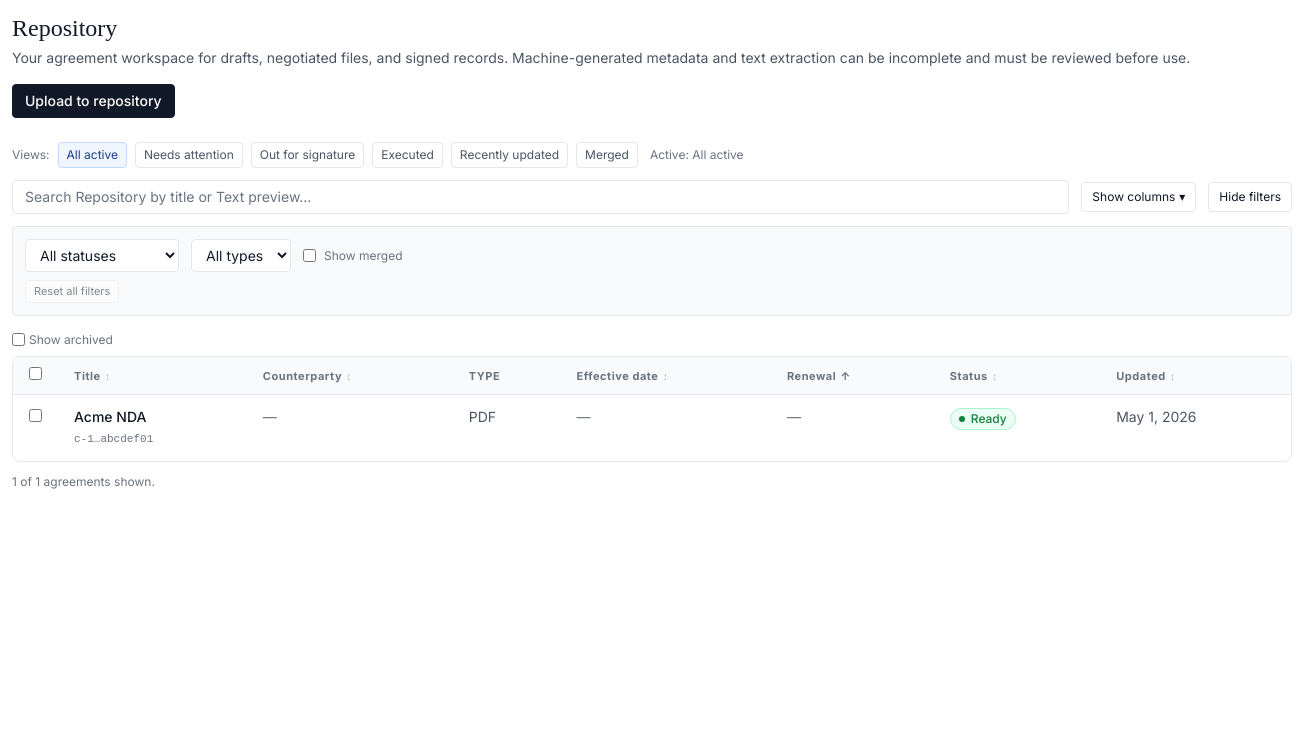
ContractsPage (Repository list) › manually changing status away from the active preset switches to Custom view
The image size is (1304, 732).
# Pick a preset first so we have a known active view.
Click the button with test id "repository-view-executed". click: coordinates (408, 155)
box: [372,142,443,168]
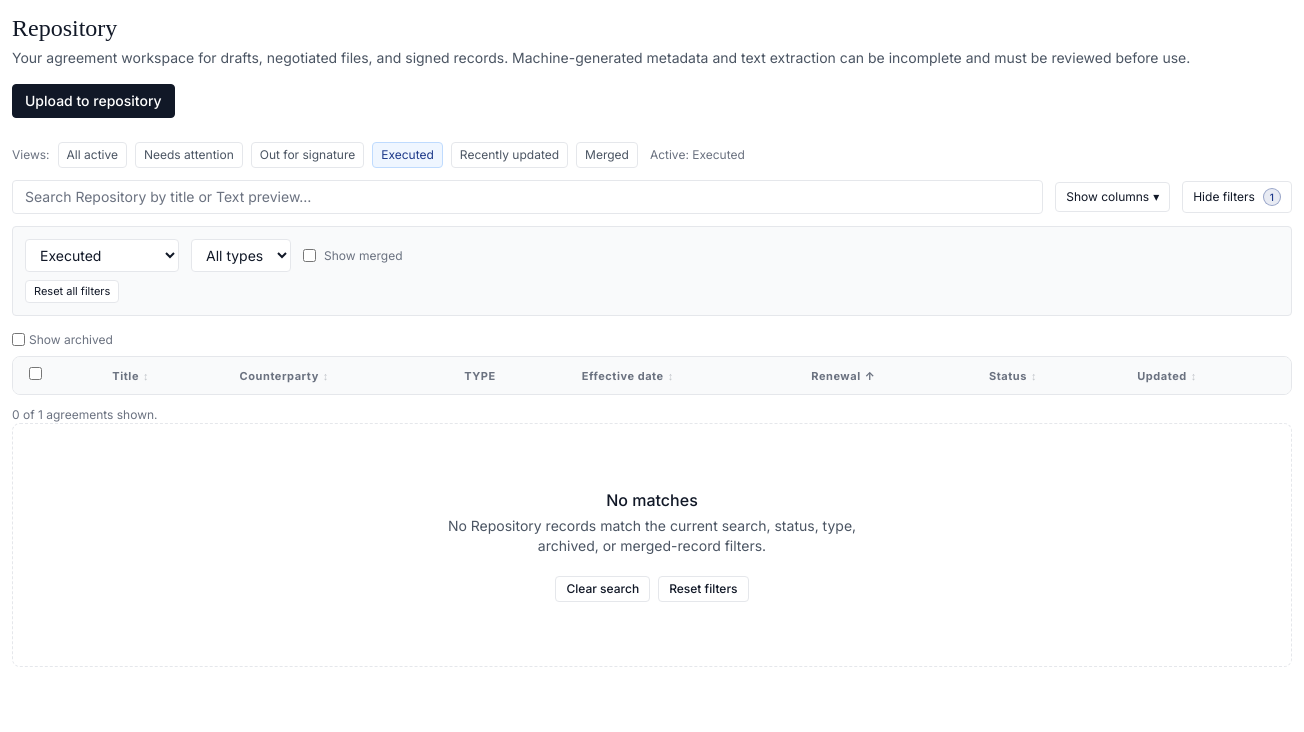
Now the text with test id "repository-view-active-label" reads "Active: Executed", box [650,147,745,162]
Select "Ready" in the dropdown with test id "repository-filter-status". click: coordinates (102, 256)
box: [25,239,179,272]
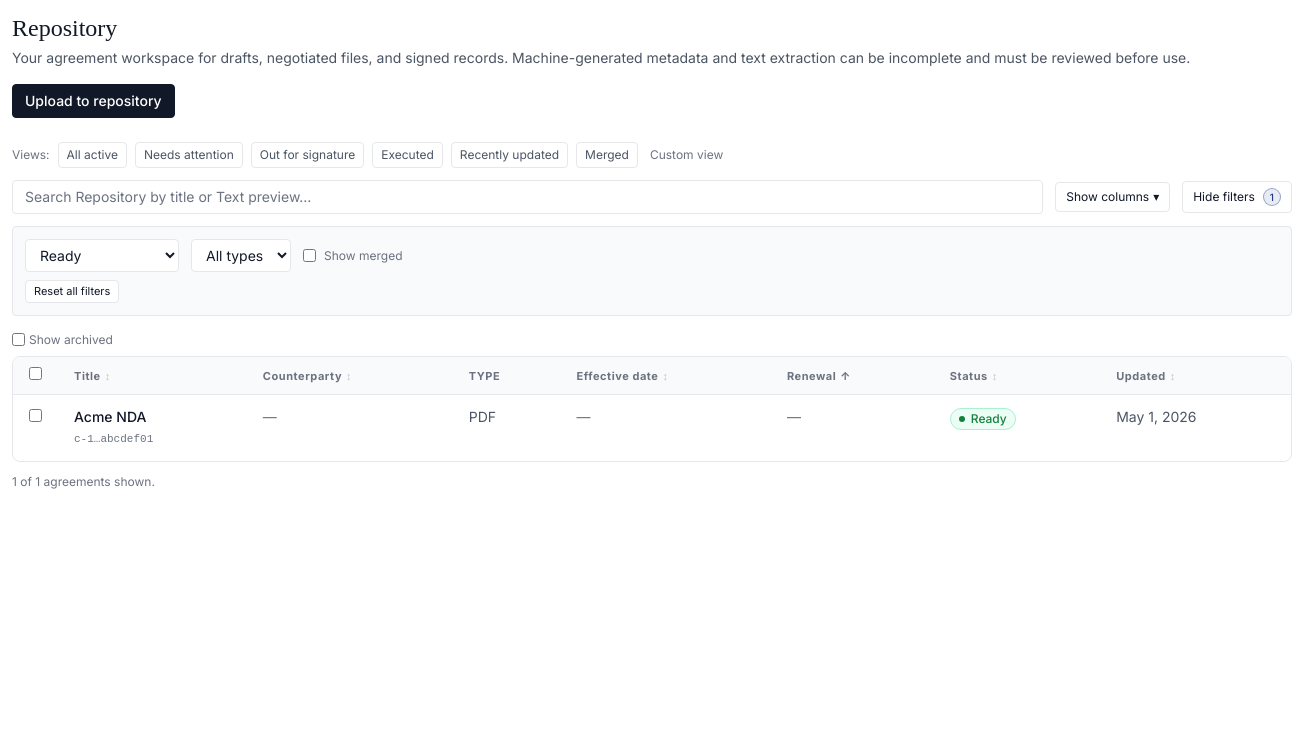
Now the text with test id "repository-view-active-label" reads "Custom view", box [650,147,723,162]
